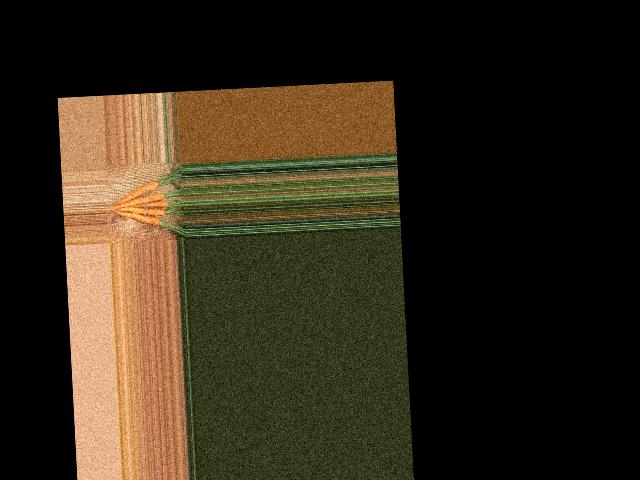carrot: (117, 209, 160, 228)
